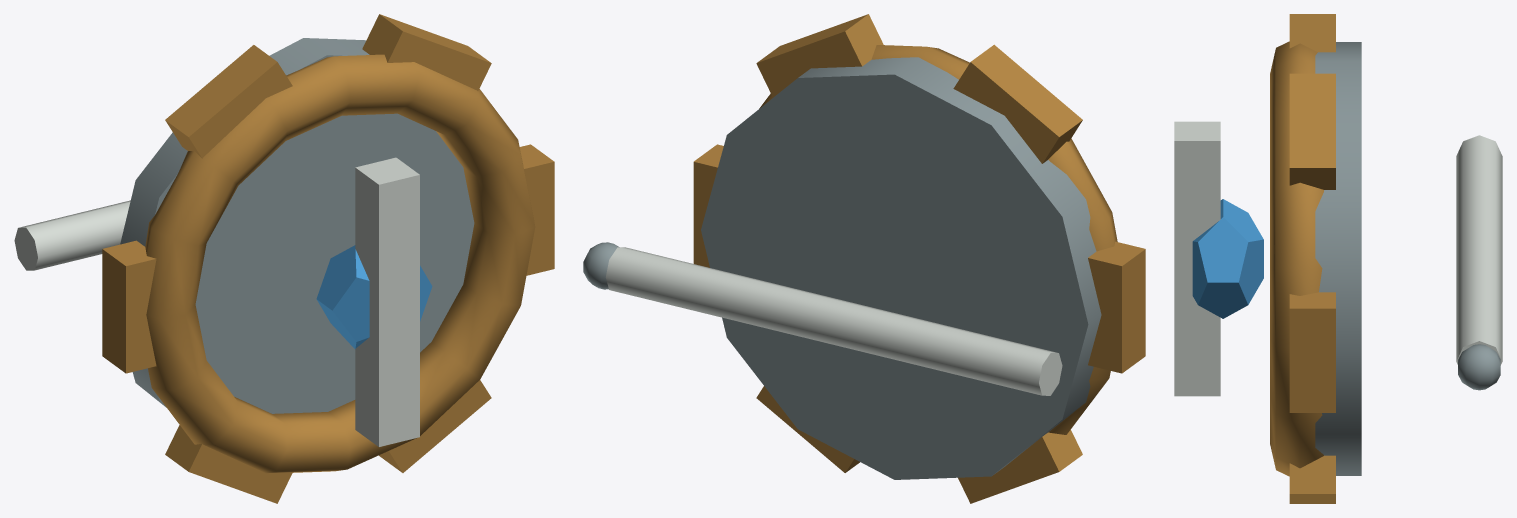
Rendered from brooch.glb.
The picture shows the model from 3 angles, left to right: view 1: azimuth 30°, elevation 25°; view 2: azimuth 150°, elevation 25°; view 3: azimuth 270°, elevation 25°; orthographic projection. The views are drawn at different scales.
Parts seen in each view (by area): view 1: brooch-rim, brooch-medallion, brooch-sun-ray (×6), brooch-center-ridge, brooch-pin, brooch-center-stone; view 2: brooch-medallion, brooch-sun-ray (×6), brooch-pin, brooch-rim, brooch-pin-tip; view 3: brooch-sun-ray (×4), brooch-medallion, brooch-rim, brooch-center-ridge, brooch-pin, brooch-center-stone, brooch-pin-tip.
Boxes of the visible parts, bbox=[...] form: brooch-rim: bbox=[145, 54, 535, 473]; brooch-medallion: bbox=[120, 38, 474, 413]; brooch-sun-ray (×6): bbox=[102, 14, 554, 503]; brooch-center-ridge: bbox=[355, 157, 419, 446]; brooch-pin: bbox=[14, 200, 130, 270]; brooch-center-stone: bbox=[316, 245, 432, 349]; brooch-medallion: bbox=[701, 57, 1101, 479]; brooch-sun-ray (×6): bbox=[693, 14, 1145, 503]; brooch-pin: bbox=[605, 247, 1062, 395]; brooch-rim: bbox=[759, 45, 1117, 434]; brooch-pin-tip: bbox=[583, 242, 619, 289]; brooch-sun-ray (×4): bbox=[1289, 14, 1335, 503]; brooch-medallion: bbox=[1315, 42, 1361, 475]; brooch-rim: bbox=[1270, 41, 1323, 476]; brooch-center-ridge: bbox=[1174, 121, 1220, 396]; brooch-pin: bbox=[1456, 135, 1502, 365]; brooch-center-stone: bbox=[1192, 199, 1263, 318]; brooch-pin-tip: bbox=[1458, 344, 1500, 390].
Size of the model in its own units: 0.2038 by 0.1853 by 0.128.
